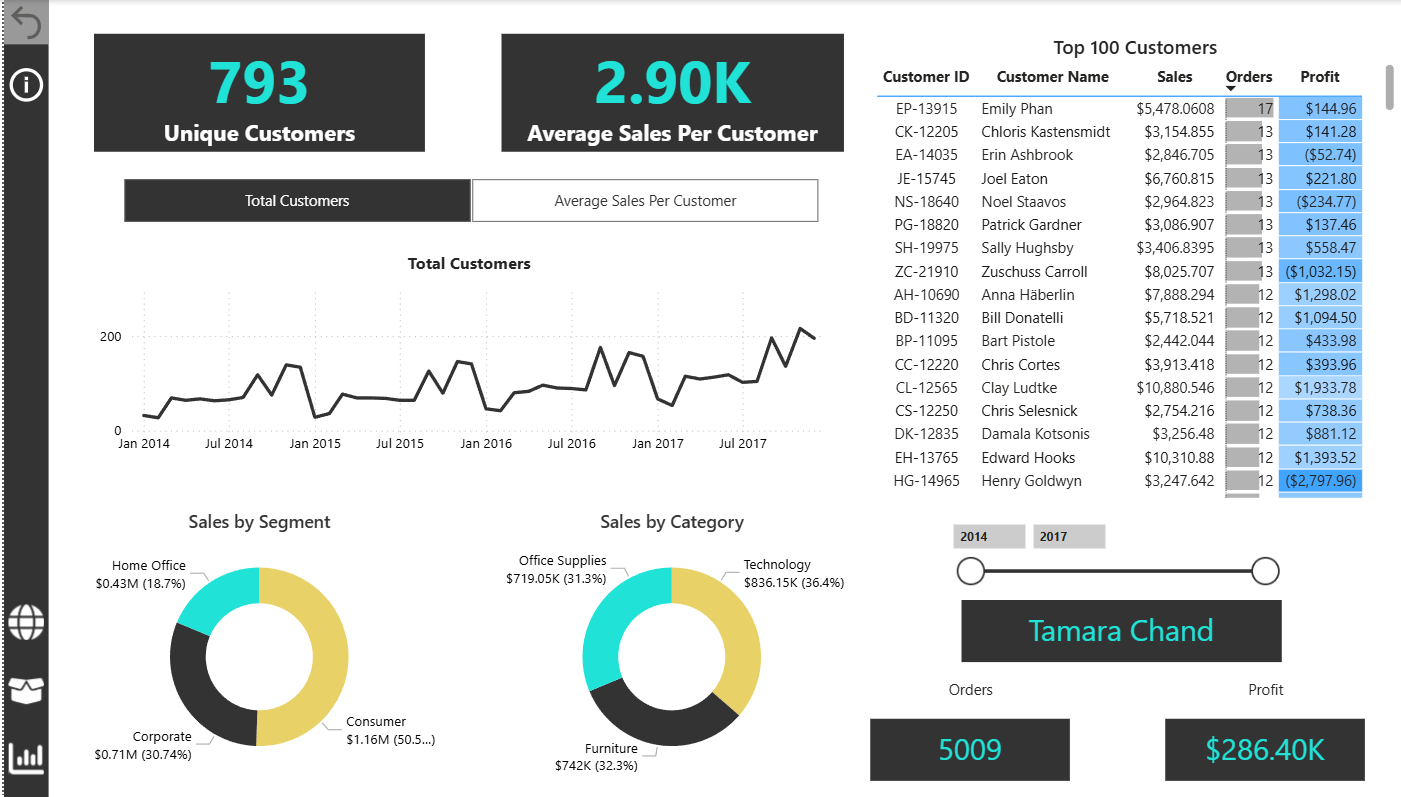

The page's visual inventory and layout, read from the dashboard file:
{"tool":"powerbi","page":{"name":"Customer View","canvas":[1280,720],"ordinal":3},"visuals":[{"type":"shape","box":[0,0,40.4,720.2],"z":0},{"type":"donutChart","title":"Sales by Segment","fields":{"Y":["Measure Table.Total Sales"],"Category":["Superstore Data.Segment"]},"box":[51.4,458.6,357.1,245.8],"z":1000},{"type":"tableEx","title":"Top 100 Customers","fields":{"Values":["Superstore Data.Customer ID","Superstore Data.Customer Name","Measure Table.Total Sales","Measure Table.Total Orders","Measure Table.Total Profit"]},"box":[781.4,30.6,478.1,423.1],"z":2000},{"type":"donutChart","title":"Sales by Category","fields":{"Y":["Measure Table.Total Sales"],"Category":["Superstore Data.Category"]},"box":[424.3,458.6,357.1,245.8],"z":3000},{"type":"card","fields":{"Values":["Min(Superstore Data.Customer Name)"]},"box":[863.3,540.5,288.6,56.3],"z":4000},{"type":"card","fields":{"Values":["Measure Table.Total Orders"]},"box":[781.4,648.1,179.8,56.3],"z":5000},{"type":"card","fields":{"Values":["Measure Table.Total Profit"]},"box":[1046.7,648.1,179.8,56.3],"z":6000},{"type":"textbox","box":[814.4,607.7,113.7,30.6],"z":7000},{"type":"textbox","box":[896.3,501.4,221.3,30.6],"z":8000},{"type":"textbox","box":[1081,607.7,113.7,30.6],"z":9000},{"type":"card","fields":{"Values":["Measure Table.Unique Customers"]},"box":[80.8,30.3,298.7,106.8],"z":10000},{"type":"card","fields":{"Values":["Measure Table.Average Sales Per Customer"]},"box":[448.7,30.3,308.8,106.8],"z":11000},{"type":"slicer","fields":{"Values":["Customer Centric Selection.Customer Centric Selection"]},"box":[81.9,154.1,676.2,52.6],"z":12000},{"type":"lineChart","fields":{"Y":["Measure Table.Total Customers"],"Category":["Superstore Data.Order Date.Variation.Date Hierarchy.Year","Superstore Data.Order Date.Variation.Date Hierarchy.Month"]},"box":[80.8,226.5,676.7,191.9],"z":13000},{"type":"slicer","fields":{"Values":["Superstore Data.Order Date.Variation.Date Hierarchy.Year"]},"box":[842.5,462.2,330.2,69.7],"z":14000},{"type":"actionButton","box":[0,0,40.4,40.4],"z":15000},{"type":"actionButton","box":[0,56.3,40.4,40.4],"z":15001},{"type":"actionButton","box":[0,664,40.4,40.4],"z":15002},{"type":"actionButton","box":[0,602.9,40.4,40.4],"z":15003},{"type":"actionButton","box":[0,540.5,40.4,40.4],"z":15004}]}

Visuals, with their boxes on the page's 1280x720 design canvas (x1, y1, x2, y2). These are canvas units, not pixel positions in the 1401x797 screenshot, which may show the page scaled, cropped or inside an application window:
shape: Rect(0, 0, 40, 720)
"Sales by Segment" donutChart: Rect(51, 459, 408, 704)
"Top 100 Customers" tableEx: Rect(781, 31, 1260, 454)
"Sales by Category" donutChart: Rect(424, 459, 781, 704)
card - Min(Superstore Data.Customer Name): Rect(863, 540, 1152, 597)
card - Measure Table.Total Orders: Rect(781, 648, 961, 704)
card - Measure Table.Total Profit: Rect(1047, 648, 1226, 704)
textbox: Rect(814, 608, 928, 638)
textbox: Rect(896, 501, 1118, 532)
textbox: Rect(1081, 608, 1195, 638)
card - Measure Table.Unique Customers: Rect(81, 30, 380, 137)
card - Measure Table.Average Sales Per Customer: Rect(449, 30, 758, 137)
slicer - Customer Centric Selection.Customer Centric Selection: Rect(82, 154, 758, 207)
lineChart - Measure Table.Total Customers x Superstore Data.Order Date.Variation.Date Hierarchy.Year: Rect(81, 226, 758, 418)
slicer - Superstore Data.Order Date.Variation.Date Hierarchy.Year: Rect(842, 462, 1173, 532)
actionButton: Rect(0, 0, 40, 40)
actionButton: Rect(0, 56, 40, 97)
actionButton: Rect(0, 664, 40, 704)
actionButton: Rect(0, 603, 40, 643)
actionButton: Rect(0, 540, 40, 581)
